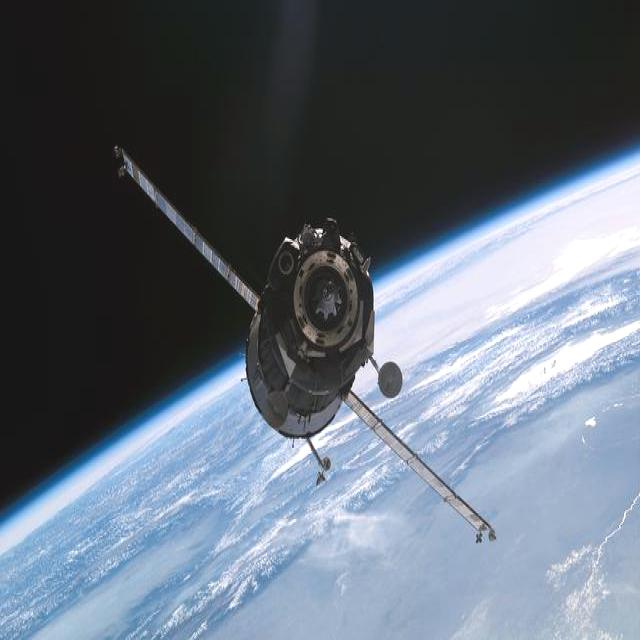medium_debris: (115, 150, 495, 541)
